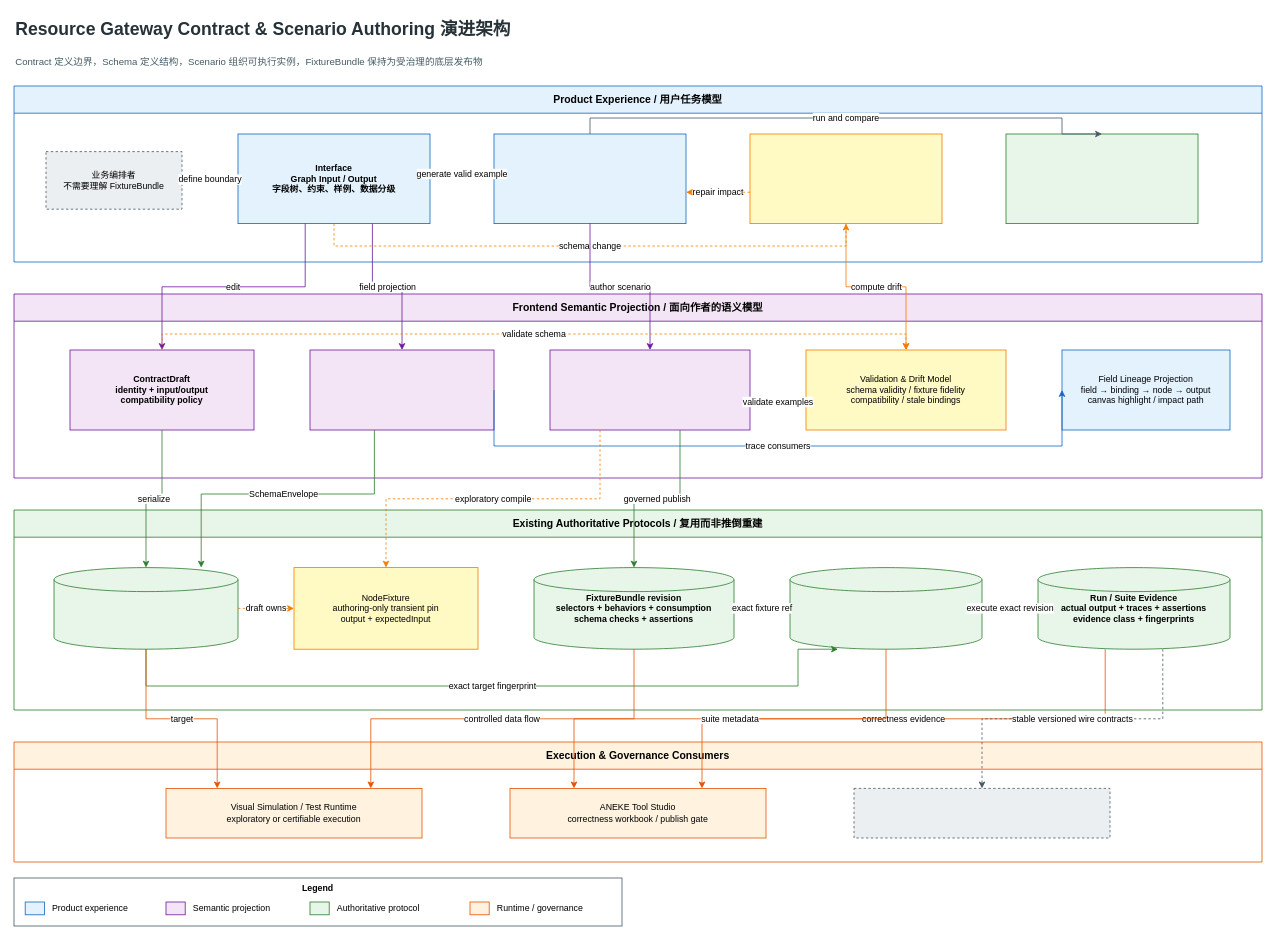
Some shapes in this 1276 by 940 pixel diagram are drawn without their labels. The centre of each missing label's shape, as x and y in pixels:
Compatibility Schema diff / impact 受影响节点、失效场景、迁移建议: (x=845, y=178)
GraphDraft SchemaEnvelope input/output nodes / edges / output selection: (x=145, y=608)
Run Evidence Actual / Expected / Diff 真实性、保真度、发布资格: (x=1101, y=178)
ScenarioDraft input example + dependency behaviors expected result + assertions: (x=649, y=389)
Scenarios Given / Dependencies / Then 业务场景、依赖行为、预期结果: (x=589, y=178)
SchemaFieldModel type / required / constraints example / classification / source: (x=401, y=389)
TestSuite revision exact target + scenario cases coverage + promotion policy: (x=885, y=608)
VS Code / CI / API Clients stable wire contracts remain unchanged: (x=981, y=813)
